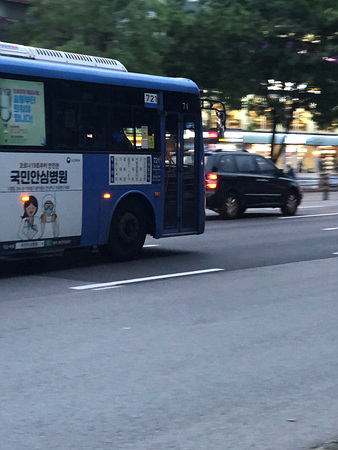entrance: (163, 105, 198, 236)
